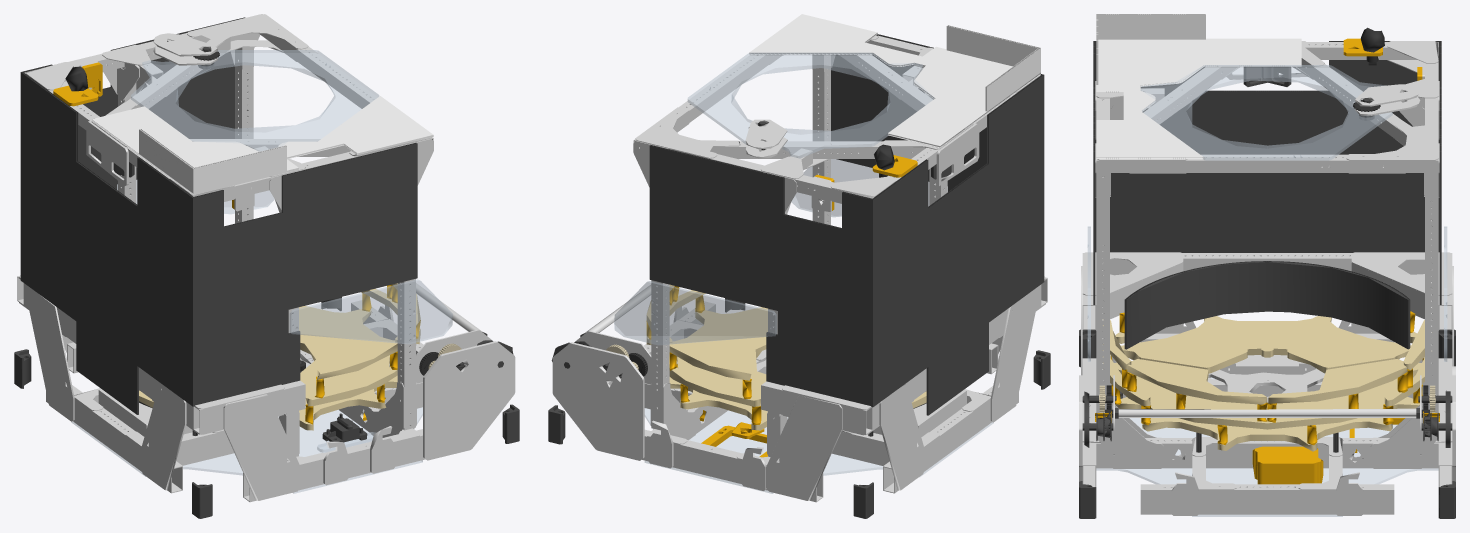
The model's file is 604-body.glb.
3 renders of one model, left to right at view 1: azimuth 30°, elevation 25°; view 2: azimuth 150°, elevation 25°; view 3: azimuth 270°, elevation 25°, orthographic.
Parts seen in each view (by area): view 1: Gearbox Roller Belt, Outer Plate, Right Slider Mount, Cable Edge Coroplast, Arc E, 12T HTD Pulley XS Spline, 8t Steel Spur Gear (20 DP, 10T Center Distance, SplineXS Bor, 120A Main Breaker; view 2: Gearbox Roller Belt, Outer Plate, Right Slider Mount, Cable Edge Coroplast, Arc E, 12T HTD Pulley XS Spline, 8t Steel Spur Gear (20 DP, 10T Center Distance, SplineXS Bor; view 3: Outer Plate, Gearbox Roller Belt, Arc E, Right Slider Mount, Cable Edge Coroplast, 12T HTD Pulley XS Spline, 8t Steel Spur Gear (20 DP, 10T Center Distance, SplineXS Bor.
Part boxes in pixels (x1,y1,x2,y2): Gearbox Roller Belt: [14, 17, 519, 518]; Outer Plate: [17, 14, 515, 502]; Right Slider Mount: [71, 50, 452, 493]; Cable Edge Coroplast: [92, 96, 433, 195]; Arc E: [139, 283, 420, 430]; 12T HTD Pulley XS Spline: [53, 62, 420, 424]; 8t Steel Spur Gear (20 DP, 10T Center Distance, SplineXS Bor: [65, 49, 460, 375]; 120A Main Breaker: [322, 413, 367, 442]; Gearbox Roller Belt: [548, 34, 1050, 518]; Outer Plate: [552, 35, 1047, 502]; Right Slider Mount: [614, 52, 993, 493]; Cable Edge Coroplast: [749, 14, 1040, 147]; Arc E: [646, 284, 926, 430]; 12T HTD Pulley XS Spline: [646, 155, 917, 457]; 8t Steel Spur Gear (20 DP, 10T Center Distance, SplineXS Bor: [619, 123, 894, 377]; Outer Plate: [1079, 41, 1455, 515]; Gearbox Roller Belt: [1079, 41, 1455, 518]; Arc E: [1102, 316, 1432, 451]; Right Slider Mount: [1087, 65, 1447, 516]; Cable Edge Coroplast: [1096, 14, 1301, 159]; 12T HTD Pulley XS Spline: [1095, 38, 1439, 484]; 8t Steel Spur Gear (20 DP, 10T Center Distance, SplineXS Bor: [1086, 27, 1429, 417].
Bounding box in the file's own units: 0.6953 × 0.7112 × 0.6985.
